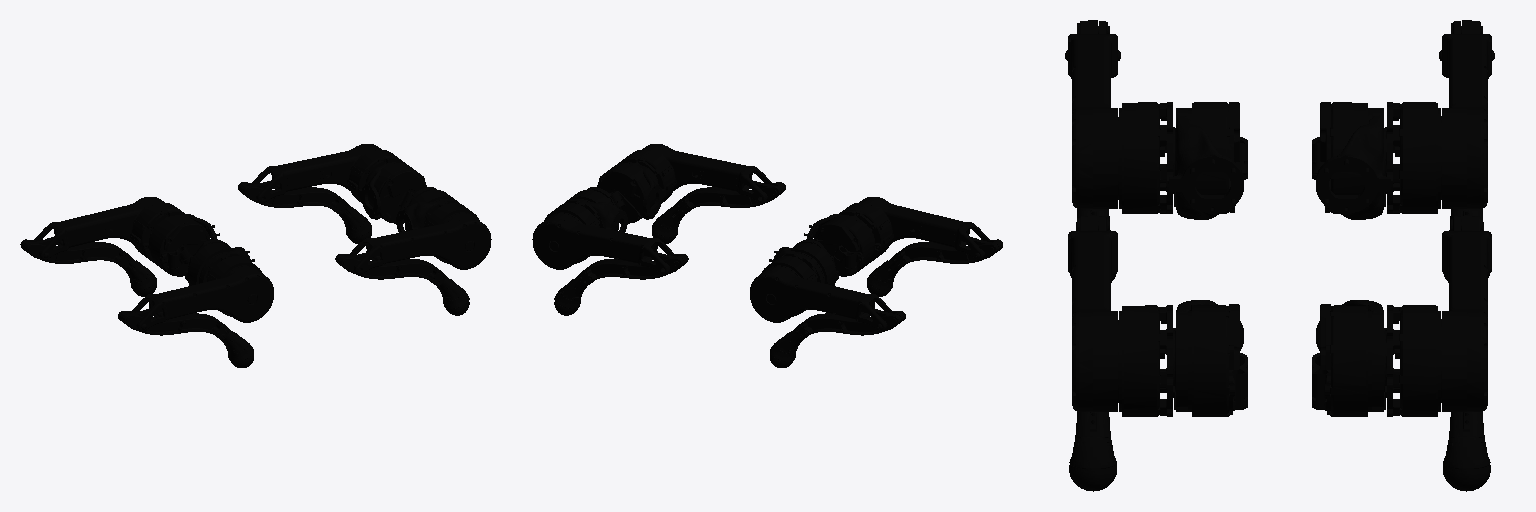
robot.urdf — black_v2:
<?xml version="1.0" encoding="utf-8"?>
<!-- This URDF was automatically created by SolidWorks to URDF Exporter! Originally created by Stephen Brawner (brawner@gmail.com) 
     Commit Version: 1.6.0-4-g7f85cfe  Build Version: 1.6.7995.38578
     For more information, please see http://wiki.ros.org/sw_urdf_exporter -->
<robot
  name="black_v2">
  <link
    name="base_link">
    <inertial>
      <origin
        xyz="-0.0129320 0.0027712 0.0669044"
        rpy="0 0 0" />
      <mass
        value="7.2332539" />
      <inertia
        ixx="0.0361584"
        ixy="0.0004797"
        ixz="-0.0002228"
        iyy="0.0811476"
        iyz="-0.0004175"
        izz="0.0977282" />
    </inertial>
    <visual>
      <origin
        xyz="0 0 0"
        rpy="0 0 0" />
      <geometry>
        <mesh
          filename="meshes/base_link.STL" />
      </geometry>
      <material
        name="">
        <color
          rgba="0.05 0.05 0.05 1" />
      </material>
    </visual>
    <collision>
      <origin
        xyz="0 0 0"
        rpy="0 0 0" />
      <geometry>
        <mesh
          filename="meshes/base_link.STL" />
      </geometry>
    </collision>
  </link>
  <link
    name="FL_hip_link">
    <inertial>
      <origin
        xyz="0.0491914 0.0133119 0.0001240"
        rpy="0 0 0" />
      <mass
        value="0.7403883" />
      <inertia
        ixx="0.0005217"
        ixy="-0.0000030"
        ixz="0.0000021"
        iyy="0.0008095"
        iyz="0.0000039"
        izz="0.0005837" />
    </inertial>
    <visual>
      <origin
        xyz="0 0 0"
        rpy="0 0 0" />
      <geometry>
        <mesh
          filename="meshes/FL_hip_link.STL" />
      </geometry>
      <material
        name="">
        <color
          rgba="0.05 0.05 0.05 1" />
      </material>
    </visual>
    <collision>
      <origin
        xyz="0 0 0"
        rpy="0 0 0" />
      <geometry>
        <mesh
          filename="meshes/FL_hip_link.STL" />
      </geometry>
    </collision>
  </link>
  <joint
    name="FL_hip_joint"
    type="revolute">
    <origin
      xyz="0.14512 0.055021 0.055"
      rpy="0 0 0" />
    <parent
      link="base_link" />
    <child
      link="FL_hip_link" />
    <axis
      xyz="1 0 0" />
    <limit
      lower="-0.7"
      upper="0.7"
      effort="33.5"
      velocity="21" />
  </joint>
  <link
    name="FL_thigh_link">
    <inertial>
      <origin
        xyz="-0.0491787 -0.0075650 0.0551336"
        rpy="0 0 0" />
      <mass
        value="0.5903513" />
      <inertia
        ixx="0.0006023"
        ixy="-0.0003112"
        ixz="0.0003563"
        iyy="0.0033724"
        iyz="0.0000597"
        izz="0.0033013" />
    </inertial>
    <visual>
      <origin
        xyz="0 0 0"
        rpy="0 0 0" />
      <geometry>
        <mesh
          filename="meshes/FL_thigh_link.STL" />
      </geometry>
      <material
        name="">
        <color
          rgba="0.05 0.05 0.05 1" />
      </material>
    </visual>
    <collision>
      <origin
        xyz="0 0 0"
        rpy="0 0 0" />
      <geometry>
        <mesh
          filename="meshes/FL_thigh_link.STL" />
      </geometry>
    </collision>
  </link>
  <joint
    name="FL_thigh_joint"
    type="revolute">
    <origin
      xyz="0.0525 0.031 0"
      rpy="-1.5708 0 0" />
    <parent
      link="FL_hip_link" />
    <child
      link="FL_thigh_link" />
    <axis
      xyz="0 0 1" />
    <limit
      lower="-3.5"
      upper="0.2"
      effort="33.5"
      velocity="21" />
  </joint>
  <link
    name="FL_calf_link">
    <inertial>
      <origin
        xyz="0.0720210 0.0249586 0.0000623"
        rpy="0 0 0" />
      <mass
        value="0.1769926" />
      <inertia
        ixx="0.0001261"
        ixy="-0.0002892"
        ixz="-0.0000021"
        iyy="0.0008061"
        iyz="-0.0000009"
        izz="0.0009174" />
    </inertial>
    <visual>
      <origin
        xyz="0 0 0"
        rpy="0 0 0" />
      <geometry>
        <mesh
          filename="meshes/FL_calf_link.STL" />
      </geometry>
      <material
        name="">
        <color
          rgba="0.05 0.05 0.05 1" />
      </material>
    </visual>
    <collision>
      <origin
        xyz="0 0 0"
        rpy="0 0 0" />
      <geometry>
        <mesh
          filename="meshes/FL_calf_link.STL" />
      </geometry>
    </collision>
  </link>
  <joint
    name="FL_calf_joint"
    type="revolute">
    <origin
      xyz="-0.19989 -0.0067187 0.0676"
      rpy="0 0 0" />
    <parent
      link="FL_thigh_link" />
    <child
      link="FL_calf_link" />
    <axis
      xyz="0 0 1" />
    <limit
      lower="0"
      upper="2.0"
      effort="33.5"
      velocity="21" />
  </joint>
  <link
    name="FL_foot">
    <inertial>
      <origin
        xyz="-0.0083923 -0.0000051 0.0276406"
        rpy="0 0 0" />
      <mass
        value="0.0518799" />        
      <inertia
        ixx="0.0000145"
        ixy="0.0000000"
        ixz="0.0000035"
        iyy="0.0000169"
        iyz="0.0000000"
        izz="0.0000103" />
    </inertial>
    <visual>
      <origin
        xyz="0 0 0"
        rpy="0 0 0" />
      <geometry>
        <mesh
          filename="meshes/FL_foot.STL" />
      </geometry>
      <material
        name="">
        <color
          rgba="0.05 0.05 0.05 1" />
      </material>
    </visual>
    <collision>
      <origin
        xyz="0 0 0"
        rpy="0 0 0" />
      <geometry>
        <mesh
          filename="meshes/FL_foot.STL" />
      </geometry>
    </collision>
  </link>
  <joint
    name="FL_foot_joint"
    type="fixed">
    <origin
      xyz="0.19068 0.12838 0"
      rpy="1.5708 0 0" />
    <parent
      link="FL_calf_link" />
    <child
      link="FL_foot" />
    <axis
      xyz="0 0 0" />
  </joint>
  <link
    name="FR_hip_link">
    <inertial>
      <origin
        xyz="0.0491914 -0.0133119 0.0001226"
        rpy="0 0 0" />
      <mass
        value="0.7403884" />        
      <inertia
        ixx="0.0005215"
        ixy="0.0000030"
        ixz="0.0000024"
        iyy="0.0008095"
        iyz="-0.0000039"
        izz="0.0005839" />
    </inertial>
    <visual>
      <origin
        xyz="0 0 0"
        rpy="0 0 0" />
      <geometry>
        <mesh
          filename="meshes/FR_hip_link.STL" />
      </geometry>
      <material
        name="">
        <color
          rgba="0.05 0.05 0.05 1" />
      </material>
    </visual>
    <collision>
      <origin
        xyz="0 0 0"
        rpy="0 0 0" />
      <geometry>
        <mesh
          filename="meshes/FR_hip_link.STL" />
      </geometry>
    </collision>
  </link>
  <joint
    name="FR_hip_joint"
    type="revolute">
    <origin
      xyz="0.14512 -0.054979 0.055"
      rpy="0 0 0" />
    <parent
      link="base_link" />
    <child
      link="FR_hip_link" />
    <axis
      xyz="-1 0 0" />
    <limit
      lower="-0.7"
      upper="0.7"
      effort="33.5"
      velocity="21" />
  </joint>
  <link
    name="FR_thigh_link">
    <inertial>
      <origin
        xyz="-0.0491807 0.0075654 0.0552580"
        rpy="0 0 0" />
      <mass
        value="0.5903369" />        
      <inertia
        ixx="0.0005995"
        ixy="0.0003111"
        ixz="0.0003674"
        iyy="0.0033697"
        iyz="-0.0000597"
        izz="0.0033013" />
    </inertial>
    <visual>
      <origin
        xyz="0 0 0"
        rpy="0 0 0" />
      <geometry>
        <mesh
          filename="meshes/FR_thigh_link.STL" />
      </geometry>
      <material
        name="">
        <color
          rgba="0.05 0.05 0.05 1" />
      </material>
    </visual>
    <collision>
      <origin
        xyz="0 0 0"
        rpy="0 0 0" />
      <geometry>
        <mesh
          filename="meshes/FR_thigh_link.STL" />
      </geometry>
    </collision>
  </link>
  <joint
    name="FR_thigh_joint"
    type="revolute">
    <origin
      xyz="0.0525 -0.031 0"
      rpy="1.5708 0 0" />
    <parent
      link="FR_hip_link" />
    <child
      link="FR_thigh_link" />
    <axis
      xyz="0 0 -1" />
    <limit
      lower="-3.5"
      upper="0.2"
      effort="33.5"
      velocity="21" />
  </joint>
  <link
    name="FR_calf_link">
    <inertial>
      <origin
        xyz="0.0720315 -0.0249623 -0.0123863"
        rpy="0 0 0" />
      <mass
        value="0.1770211" />        
      <inertia
        ixx="0.0001262"
        ixy="0.0002892"
        ixz="-0.0000012"
        iyy="0.0008063"
        iyz="0.0000005"
        izz="0.0009176" />
    </inertial>
    <visual>
      <origin
        xyz="0 0 0"
        rpy="0 0 0" />
      <geometry>
        <mesh
          filename="meshes/FR_calf_link.STL" />
      </geometry>
      <material
        name="">
        <color
          rgba="0.05 0.05 0.05 1" />
      </material>
    </visual>
    <collision>
      <origin
        xyz="0 0 0"
        rpy="0 0 0" />
      <geometry>
        <mesh
          filename="meshes/FR_calf_link.STL" />
      </geometry>
    </collision>
  </link>
  <joint
    name="FR_calf_joint"
    type="revolute">
    <origin
      xyz="-0.19989 0.0067187 0.0801"
      rpy="0 0 0" />
    <parent
      link="FR_thigh_link" />
    <child
      link="FR_calf_link" />
    <axis
      xyz="0 0 -1" />
    <limit
      lower="0"
      upper="2.0"
      effort="33.5"
      velocity="21" />
  </joint>
  <link
    name="FR_foot">
    <inertial>
      <origin
        xyz="-0.0083920 0.0000040 0.0276410"
        rpy="0 0 0" />
      <mass
        value="0.0518793" />        
      <inertia
        ixx="0.0000145"
        ixy="0.0000000"
        ixz="0.0000035"
        iyy="0.0000169"
        iyz="0.0000000"
        izz="0.0000103" />
    </inertial>
    <visual>
      <origin
        xyz="0 0 0"
        rpy="0 0 0" />
      <geometry>
        <mesh
          filename="meshes/FR_foot.STL" />
      </geometry>
      <material
        name="">
        <color
          rgba="0.05 0.05 0.05 1" />
      </material>
    </visual>
    <collision>
      <origin
        xyz="0 0 0"
        rpy="0 0 0" />
      <geometry>
        <mesh
          filename="meshes/FR_foot.STL" />
      </geometry>
    </collision>
  </link>
  <joint
    name="FR_foot_joint"
    type="fixed">
    <origin
      xyz="0.19068 -0.12838 -0.0125"
      rpy="-1.5708 0 0" />
    <parent
      link="FR_calf_link" />
    <child
      link="FR_foot" />
    <axis
      xyz="0 0 0" />
  </joint>
  <link
    name="RL_hip_link">
    <inertial>
      <origin
        xyz="-0.0486173 0.0131541 0.0001727"
        rpy="0 0 0" />
      <mass
        value="0.7492696" />        
      <inertia
        ixx="0.0005273"
        ixy="0.0000086"
        ixz="-0.0000042"
        iyy="0.0008326"
        iyz="0.0000044"
        izz="0.0006082" />
    </inertial>
    <visual>
      <origin
        xyz="0 0 0"
        rpy="0 0 0" />
      <geometry>
        <mesh
          filename="meshes/RL_hip_link.STL" />
      </geometry>
      <material
        name="">
        <color
          rgba="0.05 0.05 0.05 1" />
      </material>
    </visual>
    <collision>
      <origin
        xyz="0 0 0"
        rpy="0 0 0" />
      <geometry>
        <mesh
          filename="meshes/RL_hip_link.STL" />
      </geometry>
    </collision>
  </link>
  <joint
    name="RL_hip_joint"
    type="revolute">
    <origin
      xyz="-0.14488 0.055021 0.055"
      rpy="0 0 0" />
    <parent
      link="base_link" />
    <child
      link="RL_hip_link" />
    <axis
      xyz="1 0 0" />
    <limit
      lower="-0.7"
      upper="0.7"
      effort="33.5"
      velocity="21" />
  </joint>
  <link
    name="RL_thigh_link">
    <inertial>
      <origin
        xyz="-0.0504342 -0.0058683 0.0552188"
        rpy="0 0 0" />
      <mass
        value="0.5944131" />        
      <inertia
        ixx="0.0005867"
        ixy="-0.0002139"
        ixz="0.0003656"
        iyy="0.0034837"
        iyz="0.0000474"
        izz="0.0033929" />
    </inertial>
    <visual>
      <origin
        xyz="0 0 0"
        rpy="0 0 0" />
      <geometry>
        <mesh
          filename="meshes/RL_thigh_link.STL" />
      </geometry>
      <material
        name="">
        <color
          rgba="0.05 0.05 0.05 1" />
      </material>
    </visual>
    <collision>
      <origin
        xyz="0 0 0"
        rpy="0 0 0" />
      <geometry>
        <mesh
          filename="meshes/RL_thigh_link.STL" />
      </geometry>
    </collision>
  </link>
  <joint
    name="RL_thigh_joint"
    type="revolute">
    <origin
      xyz="-0.0525 0.031 0"
      rpy="-1.5708 0 0" />
    <parent
      link="RL_hip_link" />
    <child
      link="RL_thigh_link" />
    <axis
      xyz="0 0 1" />
    <limit
      lower="-3.5"
      upper="0.2"
      effort="33.5"
      velocity="21" />
  </joint>
  <link
    name="RL_calf_link">
    <inertial>
      <origin
        xyz="0.0755259 0.0234391 0.0002942"
        rpy="0 0 0" />
      <mass
        value="0.1880265" />        
      <inertia
        ixx="0.0001132"
        ixy="-0.0002804"
        ixz="-0.0000042"
        iyy="0.0008731"
        iyz="-0.0000015"
        izz="0.0009700" />
    </inertial>
    <visual>
      <origin
        xyz="0 0 0"
        rpy="0 0 0" />
      <geometry>
        <mesh
          filename="meshes/RL_calf_link.STL" />
      </geometry>
      <material
        name="">
        <color
          rgba="0.05 0.05 0.05 1" />
      </material>
    </visual>
    <collision>
      <origin
        xyz="0 0 0"
        rpy="0 0 0" />
      <geometry>
        <mesh
          filename="meshes/RL_calf_link.STL" />
      </geometry>
    </collision>
  </link>
  <joint
    name="RL_calf_joint"
    type="revolute">
    <origin
      xyz="-0.2 0 0.0676"
      rpy="0 0 0" />
    <parent
      link="RL_thigh_link" />
    <child
      link="RL_calf_link" />
    <axis
      xyz="0 0 1" />
    <limit
      lower="0"
      upper="2.0"
      effort="33.5"
      velocity="21" />
  </joint>
  <link
    name="RL_foot">
    <inertial>
      <origin
        xyz="-0.0093161 -0.0000051 0.0273431"
        rpy="0 0 0" />
      <mass
        value="0.0518799" />        
      <inertia
        ixx="0.0000143"
        ixy="0.0000000"
        ixz="0.0000037"
        iyy="0.0000169"
        iyz="0.0000000"
        izz="0.0000106" />
    </inertial>
    <visual>
      <origin
        xyz="0 0 0"
        rpy="0 0 0" />
      <geometry>
        <mesh
          filename="meshes/RL_foot.STL" />
      </geometry>
      <material
        name="">
        <color
          rgba="0.05 0.05 0.05 1" />
      </material>
    </visual>
    <collision>
      <origin
        xyz="0 0 0"
        rpy="0 0 0" />
      <geometry>
        <mesh
          filename="meshes/RL_foot.STL" />
      </geometry>
    </collision>
  </link>
  <joint
    name="RL_foot_joint"
    type="fixed">
    <origin
      xyz="0.19489 0.12191 0"
      rpy="1.5708 0 0" />
    <parent
      link="RL_calf_link" />
    <child
      link="RL_foot" />
    <axis
      xyz="0 0 0" />
  </joint>
  <link
    name="RR_hip_link">
    <inertial>
      <origin
        xyz="-0.0486172 -0.0131541 0.0001741"
        rpy="0 0 0" />
      <mass
        value="0.7492695" />        
      <inertia
        ixx="0.0005275"
        ixy="-0.0000086"
        ixz="-0.0000039"
        iyy="0.0008326"
        iyz="-0.0000044"
        izz="0.0006080" />
    </inertial>
    <visual>
      <origin
        xyz="0 0 0"
        rpy="0 0 0" />
      <geometry>
        <mesh
          filename="meshes/RR_hip_link.STL" />
      </geometry>
      <material
        name="">
        <color
          rgba="0.05 0.05 0.05 1" />
      </material>
    </visual>
    <collision>
      <origin
        xyz="0 0 0"
        rpy="0 0 0" />
      <geometry>
        <mesh
          filename="meshes/RR_hip_link.STL" />
      </geometry>
    </collision>
  </link>
  <joint
    name="RR_hip_joint"
    type="revolute">
    <origin
      xyz="-0.14488 -0.054979 0.055"
      rpy="0 0 0" />
    <parent
      link="base_link" />
    <child
      link="RR_hip_link" />
    <axis
      xyz="-1 0 0" />
    <limit
      lower="-0.7"
      upper="0.7"
      effort="33.5"
      velocity="21" />
  </joint>
  <link
    name="RR_thigh_link">
    <inertial>
      <origin
        xyz="-0.0504362 0.0058685 0.0553423"
        rpy="0 0 0" />
      <mass
        value="0.5943988" />        
      <inertia
        ixx="0.0005839"
        ixy="0.0002138"
        ixz="0.0003767"
        iyy="0.0034810"
        iyz="-0.0000470"
        izz="0.0033929" />
    </inertial>
    <visual>
      <origin
        xyz="0 0 0"
        rpy="0 0 0" />
      <geometry>
        <mesh
          filename="meshes/RR_thigh_link.STL" />
      </geometry>
      <material
        name="">
        <color
          rgba="0.05 0.05 0.05 1" />
      </material>
    </visual>
    <collision>
      <origin
        xyz="0 0 0"
        rpy="0 0 0" />
      <geometry>
        <mesh
          filename="meshes/RR_thigh_link.STL" />
      </geometry>
    </collision>
  </link>
  <joint
    name="RR_thigh_joint"
    type="revolute">
    <origin
      xyz="-0.0525 -0.031 0"
      rpy="1.5708 0 0" />
    <parent
      link="RR_hip_link" />
    <child
      link="RR_thigh_link" />
    <axis
      xyz="0 0 -1" />
    <limit
      lower="-3.5"
      upper="0.2"
      effort="33.5"
      velocity="21" />
  </joint>
  <link
    name="RR_calf_link">
    <inertial>
      <origin
        xyz="0.0755355 -0.0234421 0.0003426"
        rpy="0 0 0" />
      <mass
        value="0.1880550" />        
      <inertia
        ixx="0.0001132"
        ixy="0.0002804"
        ixz="-0.0000033"
        iyy="0.0008732"
        iyz="0.0000012"
        izz="0.0009702" />
    </inertial>
    <visual>
      <origin
        xyz="0 0 0"
        rpy="0 0 0" />
      <geometry>
        <mesh
          filename="meshes/RR_calf_link.STL" />
      </geometry>
      <material
        name="">
        <color
          rgba="0.05 0.05 0.05 1" />
      </material>
    </visual>
    <collision>
      <origin
        xyz="0 0 0"
        rpy="0 0 0" />
      <geometry>
        <mesh
          filename="meshes/RR_calf_link.STL" />
      </geometry>
    </collision>
  </link>
  <joint
    name="RR_calf_joint"
    type="revolute">
    <origin
      xyz="-0.2 0 0.0676"
      rpy="0 0 0" />
    <parent
      link="RR_thigh_link" />
    <child
      link="RR_calf_link" />
    <axis
      xyz="0 0 -1" />
    <limit
      lower="0"
      upper="2.0"
      effort="33.5"
      velocity="21" />
  </joint>
  <link
    name="RR_foot">
    <inertial>
      <origin
        xyz="-0.0093158 0.0000040 0.0273434"
        rpy="0 0 0" />
      <mass
        value="0.0518793" />        
      <inertia
        ixx="0.0000143"
        ixy="0.0000000"
        ixz="0.0000037"
        iyy="0.0000169"
        iyz="0.0000000"
        izz="0.0000106" />
    </inertial>
    <visual>
      <origin
        xyz="0 0 0"
        rpy="0 0 0" />
      <geometry>
        <mesh
          filename="meshes/RR_foot.STL" />
      </geometry>
      <material
        name="">
        <color
          rgba="0.05 0.05 0.05 1" />
      </material>
    </visual>
    <collision>
      <origin
        xyz="0 0 0"
        rpy="0 0 0" />
      <geometry>
        <mesh
          filename="meshes/RR_foot.STL" />
      </geometry>
    </collision>
  </link>
  <joint
    name="RR_foot_joint"
    type="fixed">
    <origin
      xyz="0.19489 -0.12191 0"
      rpy="-1.5708 0 0" />
    <parent
      link="RR_calf_link" />
    <child
      link="RR_foot" />
    <axis
      xyz="0 0 0" />
  </joint>
</robot>

--- Facts derived from the render (not from the file) ---
The picture shows the robot from 3 angles, left to right: view 1: azimuth 30°, elevation 25°; view 2: azimuth 150°, elevation 25°; view 3: azimuth 270°, elevation 25°; orthographic projection.
Model black_v2 with 17 links and 16 joints (12 revolute, 4 fixed), rooted at base_link, posed every joint at zero.
Links seen in each view (by area): view 1: RR_thigh_link, FR_thigh_link, RL_thigh_link, FL_thigh_link, RL_hip_link, FL_hip_link, RL_calf_link, FL_calf_link, RR_calf_link, FR_calf_link, FR_hip_link, RR_hip_link (+4 smaller); view 2: RL_thigh_link, FL_thigh_link, RR_thigh_link, FR_thigh_link, RR_hip_link, FR_hip_link, RR_calf_link, FR_calf_link, RL_calf_link, FL_calf_link, FL_hip_link, RL_hip_link (+4 smaller); view 3: FL_thigh_link, FR_thigh_link, RL_thigh_link, RR_thigh_link, FL_hip_link, FR_hip_link, RR_hip_link, RL_hip_link, FL_foot, FR_foot.
Boxes of the visible links, bbox=[...] form: RR_thigh_link: bbox=[120, 253, 273, 331]; FR_thigh_link: bbox=[337, 200, 491, 274]; RL_thigh_link: bbox=[22, 197, 184, 262]; FL_thigh_link: bbox=[240, 144, 405, 202]; RL_hip_link: bbox=[149, 214, 219, 276]; FL_hip_link: bbox=[358, 162, 426, 223]; RL_calf_link: bbox=[20, 239, 141, 269]; FL_calf_link: bbox=[238, 182, 357, 215]; RR_calf_link: bbox=[118, 311, 238, 341]; FR_calf_link: bbox=[335, 254, 454, 288]; FR_hip_link: bbox=[396, 187, 457, 232]; RR_hip_link: bbox=[185, 240, 254, 285]; RL_thigh_link: bbox=[750, 253, 903, 331]; FL_thigh_link: bbox=[532, 200, 686, 274]; RR_thigh_link: bbox=[839, 197, 1001, 262]; FR_thigh_link: bbox=[618, 144, 783, 202]; RR_hip_link: bbox=[804, 214, 874, 276]; FR_hip_link: bbox=[597, 162, 665, 223]; RR_calf_link: bbox=[882, 239, 1002, 269]; FR_calf_link: bbox=[666, 182, 785, 215]; RL_calf_link: bbox=[785, 311, 905, 341]; FL_calf_link: bbox=[569, 254, 688, 288]; FL_hip_link: bbox=[566, 187, 627, 232]; RL_hip_link: bbox=[769, 240, 838, 285]; FL_thigh_link: bbox=[1385, 216, 1491, 416]; FR_thigh_link: bbox=[1068, 216, 1174, 416]; RL_thigh_link: bbox=[1385, 20, 1494, 213]; RR_thigh_link: bbox=[1065, 20, 1174, 213]; FL_hip_link: bbox=[1312, 300, 1386, 416]; FR_hip_link: bbox=[1173, 300, 1247, 416]; RR_hip_link: bbox=[1168, 102, 1247, 219]; RL_hip_link: bbox=[1312, 102, 1391, 219]; FL_foot: bbox=[1443, 412, 1490, 491]; FR_foot: bbox=[1069, 412, 1116, 491].
Bounding box of the posed robot: 0.6713 × 0.3532 × 0.1697 m (x, y, z).
Meshes: 17 distinct files referenced, 16 mesh visuals loaded (16 binary STL); not drawn: 1 (reference not matched to a file when rendering).
